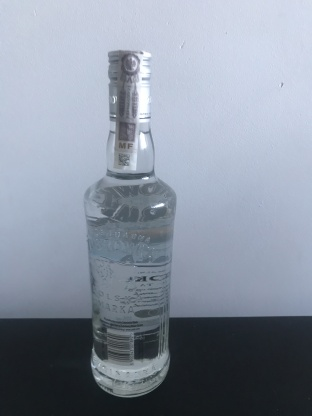nakretka: (104, 44, 155, 125)
